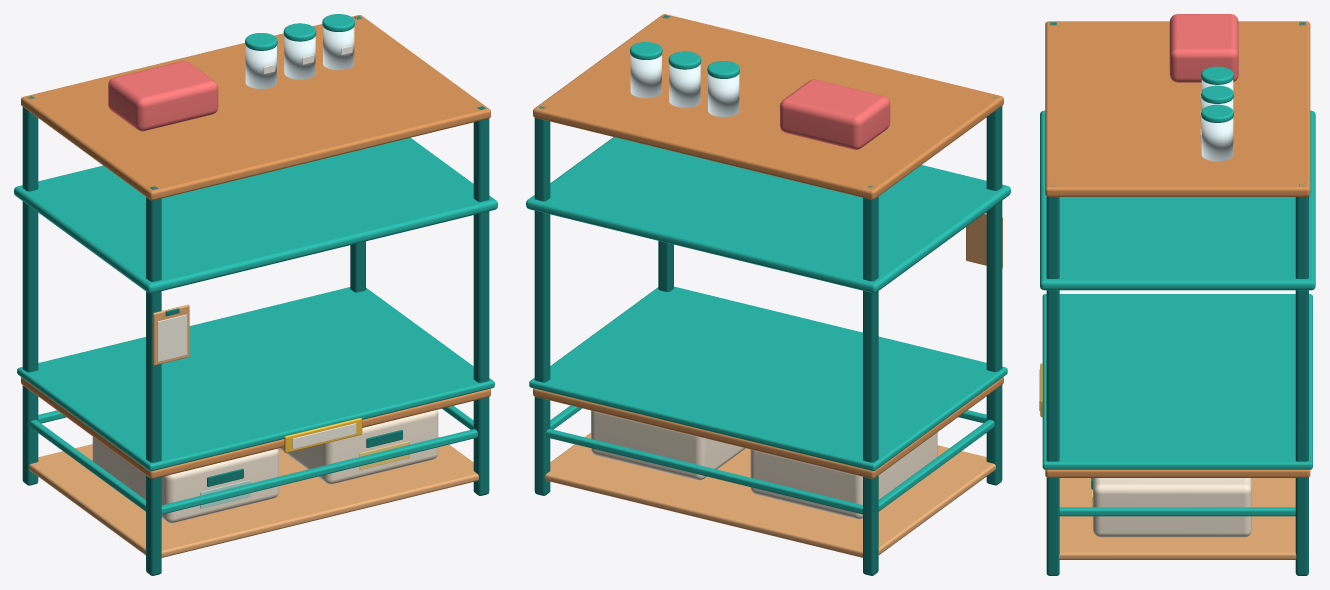
Rendered from TankRack.fbx.
The picture shows the model from 3 angles, left to right: view 1: azimuth 30°, elevation 25°; view 2: azimuth 150°, elevation 25°; view 3: azimuth 270°, elevation 25°; orthographic projection.
Parts seen in each view (by area): view 1: TankRack mesh; view 2: TankRack mesh; view 3: TankRack mesh.
Boxes of the visible parts, <box> form: TankRack mesh: <box>14,14,497,575</box>; TankRack mesh: <box>526,14,1010,575</box>; TankRack mesh: <box>1039,14,1315,575</box>.
Size of the model in its own units: 1.54 by 1.8 by 1.04.
